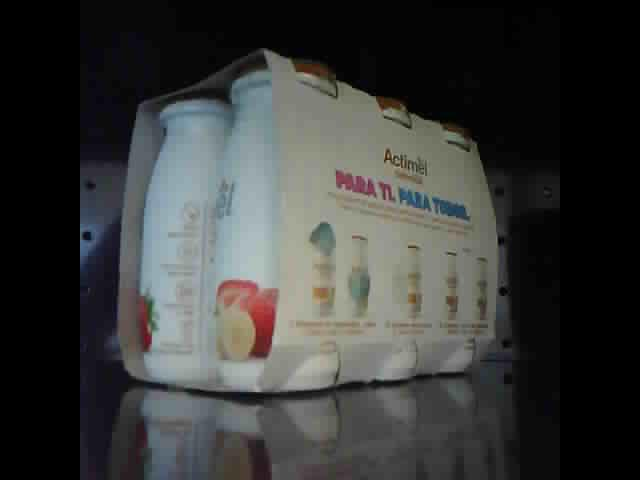actimel: (117, 47, 498, 395)
